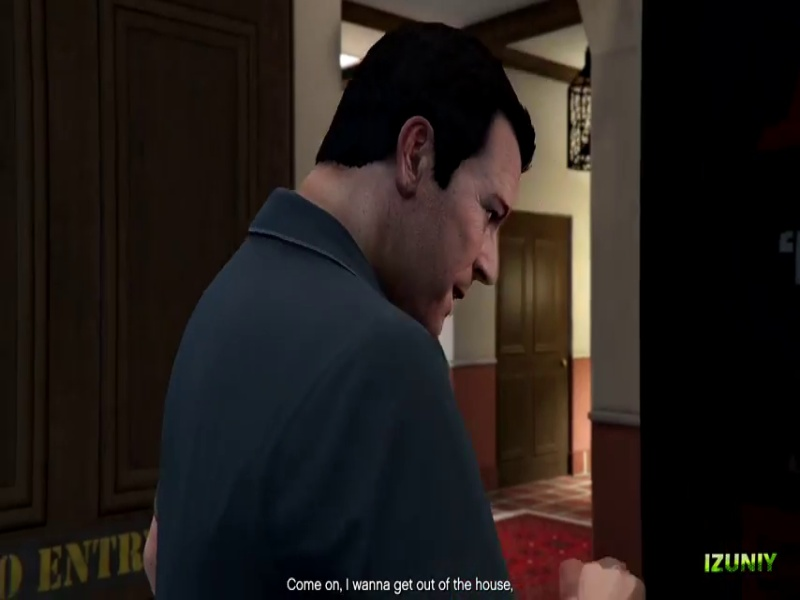human: (153, 14, 555, 597)
